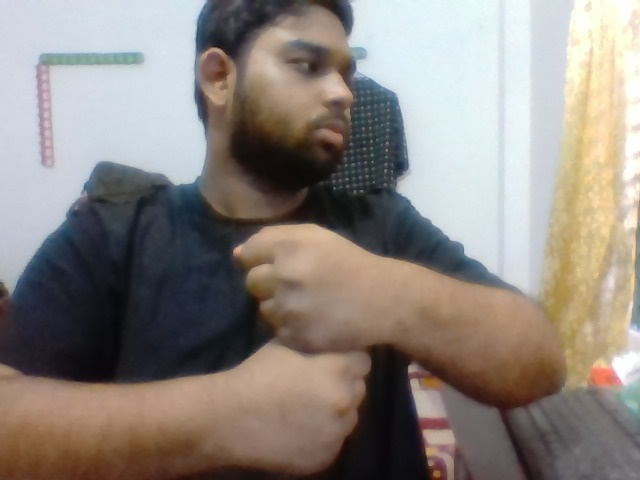G: (213, 216, 402, 478)
